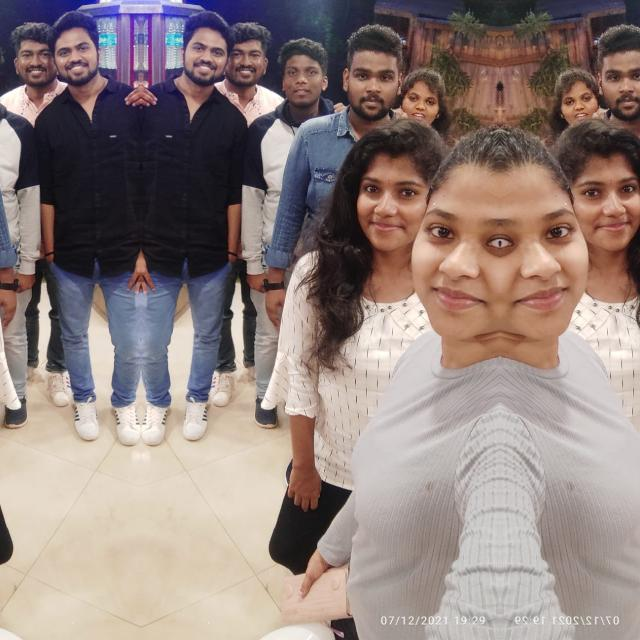person: (294, 120, 446, 516), (396, 132, 499, 640), (500, 132, 602, 640), (140, 0, 230, 464), (50, 0, 140, 464), (553, 120, 640, 515), (334, 20, 410, 162), (589, 20, 640, 161), (262, 41, 342, 127), (0, 41, 18, 127)
